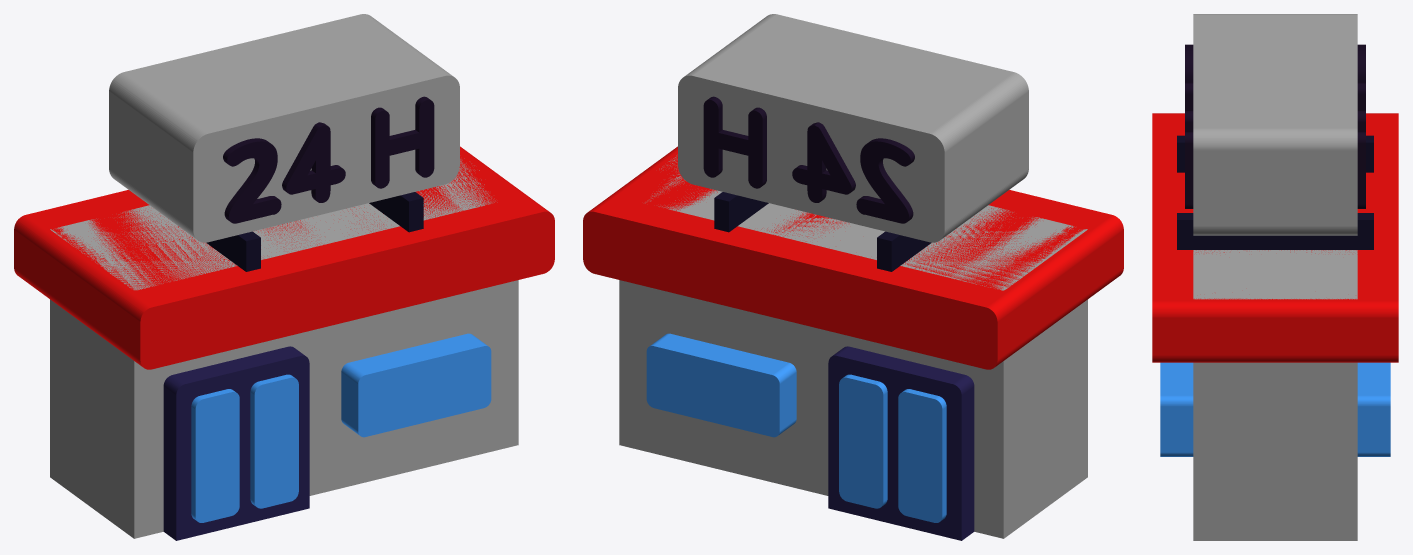
3 views of the same model, side by side, from view 1: azimuth 30°, elevation 25°; view 2: azimuth 150°, elevation 25°; view 3: azimuth 270°, elevation 25° (orthographic). The views are drawn at different scales.
Visible parts, largest first — view 1: U+1F3EA_layer00_obj00, U+1F3EA_layer05_obj00, U+1F3EA_layer04_obj00, U+1F3EA_layer03_obj00, U+1F3EA_layer01_obj00, U+1F3EA_layer02_obj00; view 2: U+1F3EA_layer00_obj00, U+1F3EA_layer05_obj00, U+1F3EA_layer04_obj00, U+1F3EA_layer03_obj00, U+1F3EA_layer01_obj00, U+1F3EA_layer02_obj00; view 3: U+1F3EA_layer00_obj00, U+1F3EA_layer05_obj00, U+1F3EA_layer04_obj00, U+1F3EA_layer02_obj00, U+1F3EA_layer01_obj00.
Part boxes in pixels (x1,y1,x2,y2): U+1F3EA_layer00_obj00: [50, 14, 518, 538]; U+1F3EA_layer05_obj00: [14, 146, 554, 369]; U+1F3EA_layer04_obj00: [191, 333, 491, 522]; U+1F3EA_layer03_obj00: [163, 346, 309, 540]; U+1F3EA_layer01_obj00: [223, 96, 434, 223]; U+1F3EA_layer02_obj00: [206, 192, 423, 271]; U+1F3EA_layer00_obj00: [619, 14, 1087, 538]; U+1F3EA_layer05_obj00: [583, 146, 1123, 369]; U+1F3EA_layer04_obj00: [646, 333, 946, 522]; U+1F3EA_layer03_obj00: [828, 346, 974, 540]; U+1F3EA_layer01_obj00: [703, 96, 914, 223]; U+1F3EA_layer02_obj00: [714, 192, 931, 271]; U+1F3EA_layer00_obj00: [1193, 14, 1357, 540]; U+1F3EA_layer05_obj00: [1152, 113, 1398, 362]; U+1F3EA_layer04_obj00: [1160, 362, 1390, 456]; U+1F3EA_layer02_obj00: [1177, 135, 1373, 249]; U+1F3EA_layer01_obj00: [1185, 44, 1365, 208].
Size of the model in its own units: 0.5681 by 0.5071 by 0.3.
